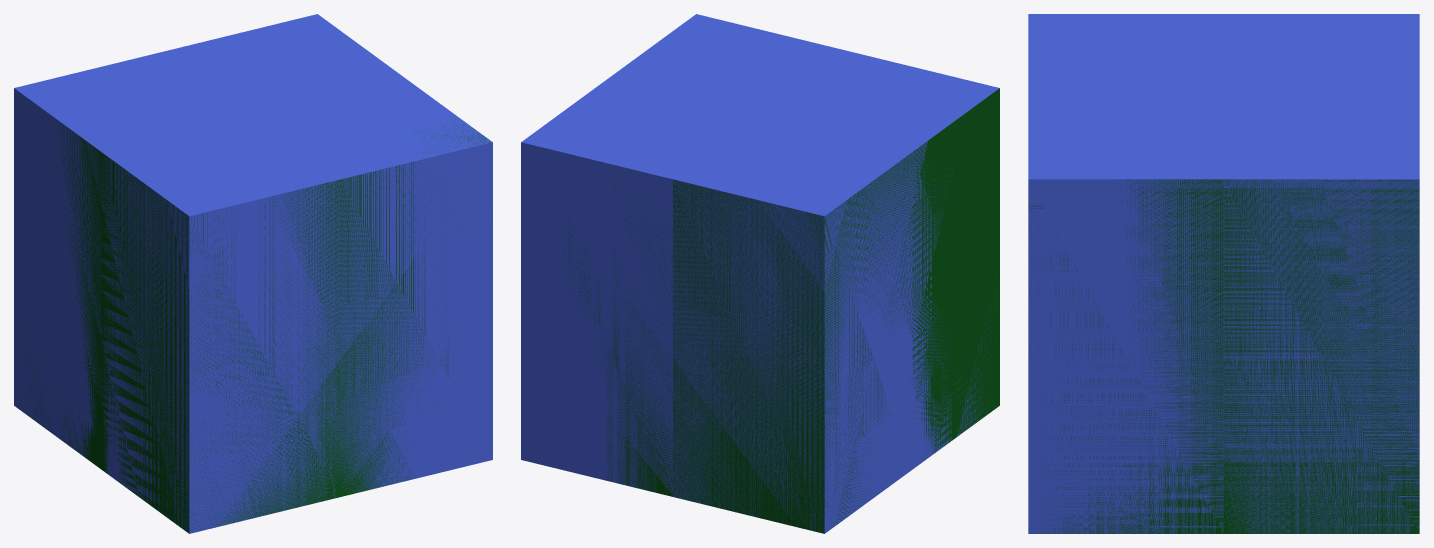
Rendered from TerrainGenerationAssets.fbx.
The picture shows the model from 3 angles, left to right: view 1: azimuth 30°, elevation 25°; view 2: azimuth 150°, elevation 25°; view 3: azimuth 270°, elevation 25°; orthographic projection. The views are drawn at different scales.
Parts seen in each view (by area): view 1: Water_Full, Water_TopLeft, Water_Top, Water_TopRight, Water_BottomLeft; view 2: Water_Full, Water_TopLeft, Water_Top, Water_BottomLeft, Water_TopRight; view 3: Water_Full, Water_BottomLeft, Water_TopLeft, Water_Top, Water_TopRight.
Part boxes in pixels (box(x1,y1,x2,y2)): Water_Full: box(14, 14, 492, 533); Water_TopLeft: box(57, 118, 490, 529); Water_Top: box(103, 158, 400, 533); Water_TopRight: box(24, 121, 338, 531); Water_BottomLeft: box(59, 130, 398, 528); Water_Full: box(521, 14, 999, 533); Water_TopLeft: box(590, 88, 999, 525); Water_Top: box(665, 154, 926, 533); Water_BottomLeft: box(550, 112, 999, 524); Water_TopRight: box(595, 169, 782, 495); Water_Full: box(1028, 14, 1419, 533); Water_BottomLeft: box(1030, 179, 1419, 533); Water_TopLeft: box(1127, 179, 1419, 525); Water_Top: box(1202, 179, 1419, 533); Water_TopRight: box(1028, 179, 1322, 533).
Size of the model in its own units: 1 by 1 by 1.
